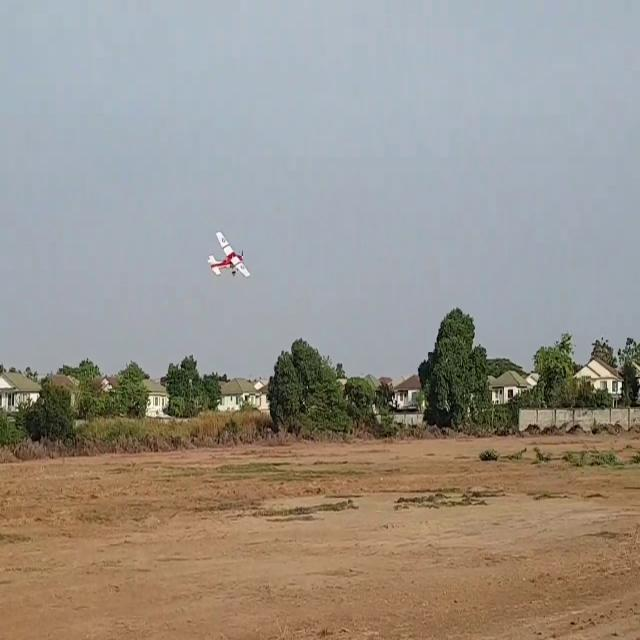iha: (207, 230, 249, 281)
